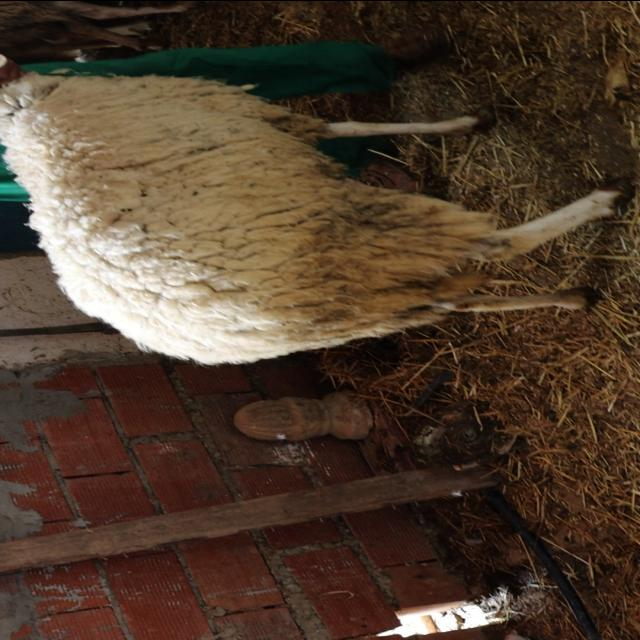Score_4: (0, 71, 620, 364)
